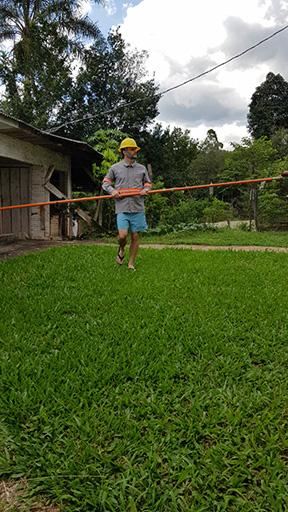Vara_Manobra: (1, 174, 281, 209)
